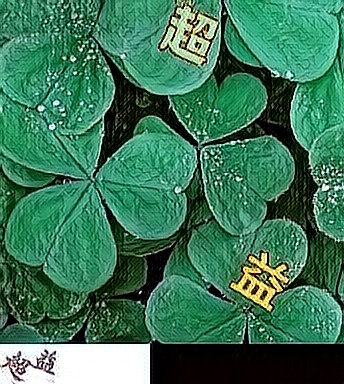B3AC: (157, 4, 222, 71)
D2E6: (226, 245, 291, 312)
